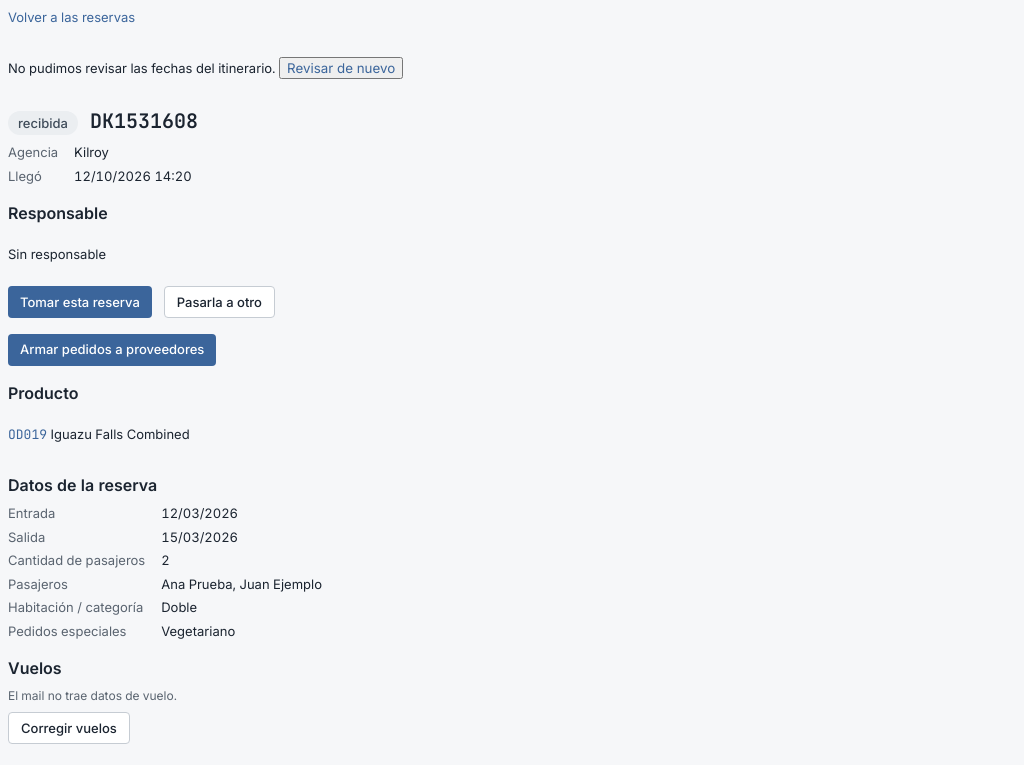
it: M3-24 — Revisar antes de pedir, en el detalle › si no se pudo calcular, lo dice y deja reintentar
Expected: the element with test id "revisar-antes-error" shows "No pudimos revisar las fechas del itinerario.", [8,60,276,76]
What coordinates should you click on to do the following:
click the button "Revisar de nuevo"
I would click on:
 (341, 68)
Its box is [279,56,403,78].
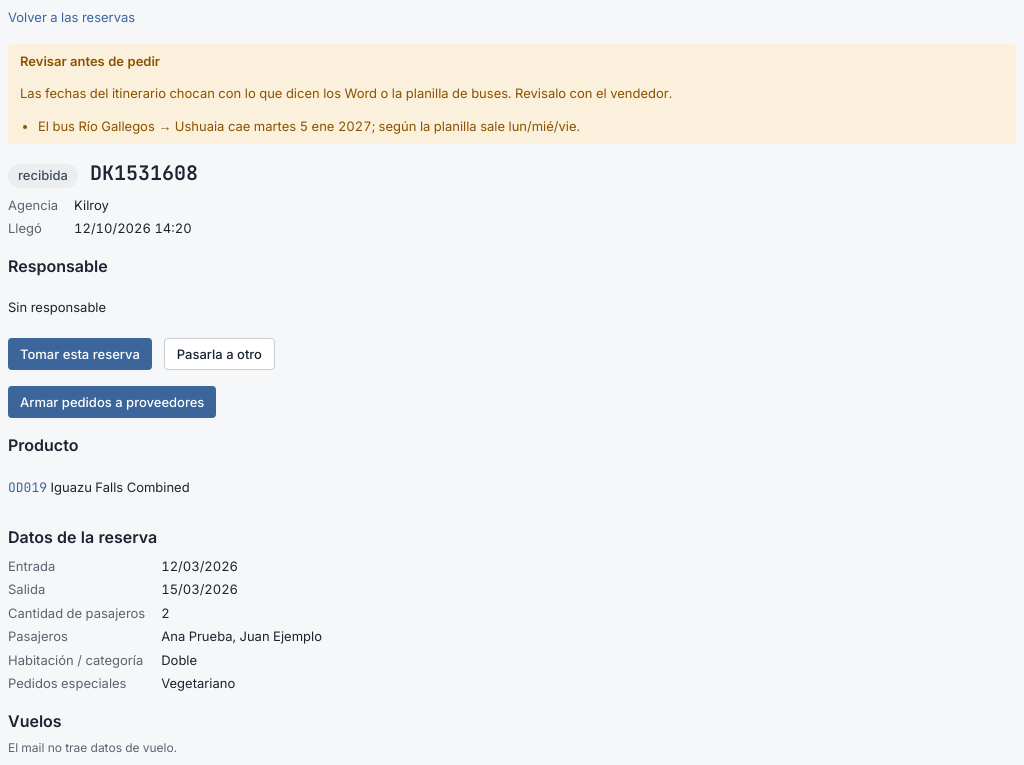
Now the list item "El bus Río Gallegos → Ushuaia cae martes 5 ene 2027; según la planilla sale lun/mié/vie." is shown, box [38,118,580,134]
